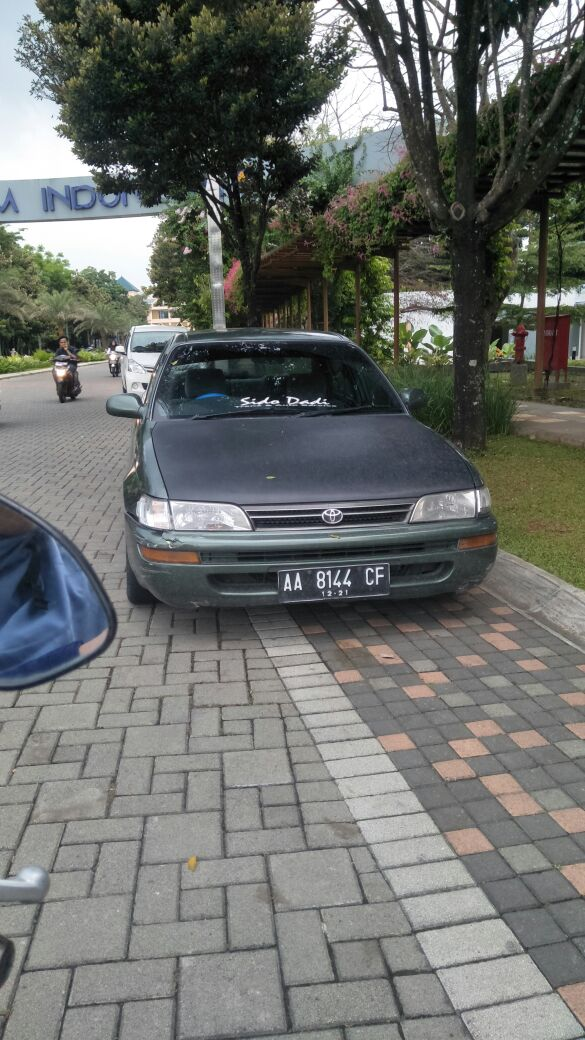plate: (278, 564, 392, 600)
